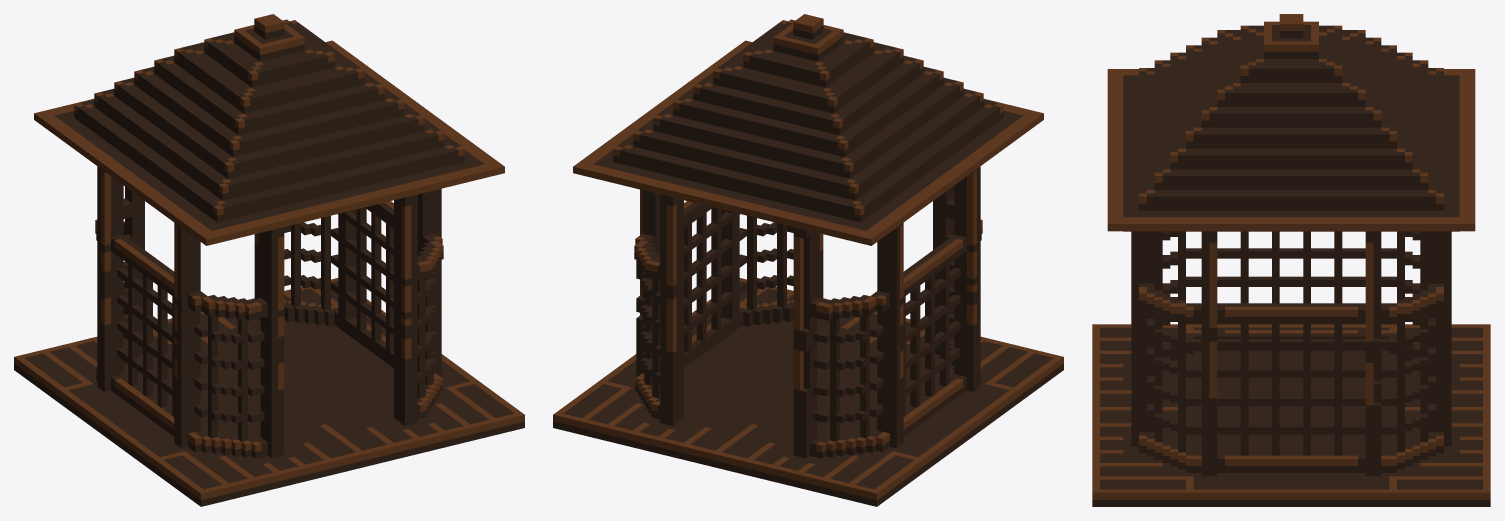
File: Gazebo.fbx
3 renders of one model, left to right at view 1: azimuth 30°, elevation 25°; view 2: azimuth 150°, elevation 25°; view 3: azimuth 270°, elevation 25°, orthographic. The views are drawn at different scales.
Parts seen in each view (by area): view 1: Gazebo; view 2: Gazebo; view 3: Gazebo.
Part boxes in pixels (<box>): Gazebo: <box>14,14,524,506</box>; Gazebo: <box>553,14,1063,506</box>; Gazebo: <box>1092,14,1490,506</box>.
Bounding box in the file's own units: 510 × 570 × 510.
